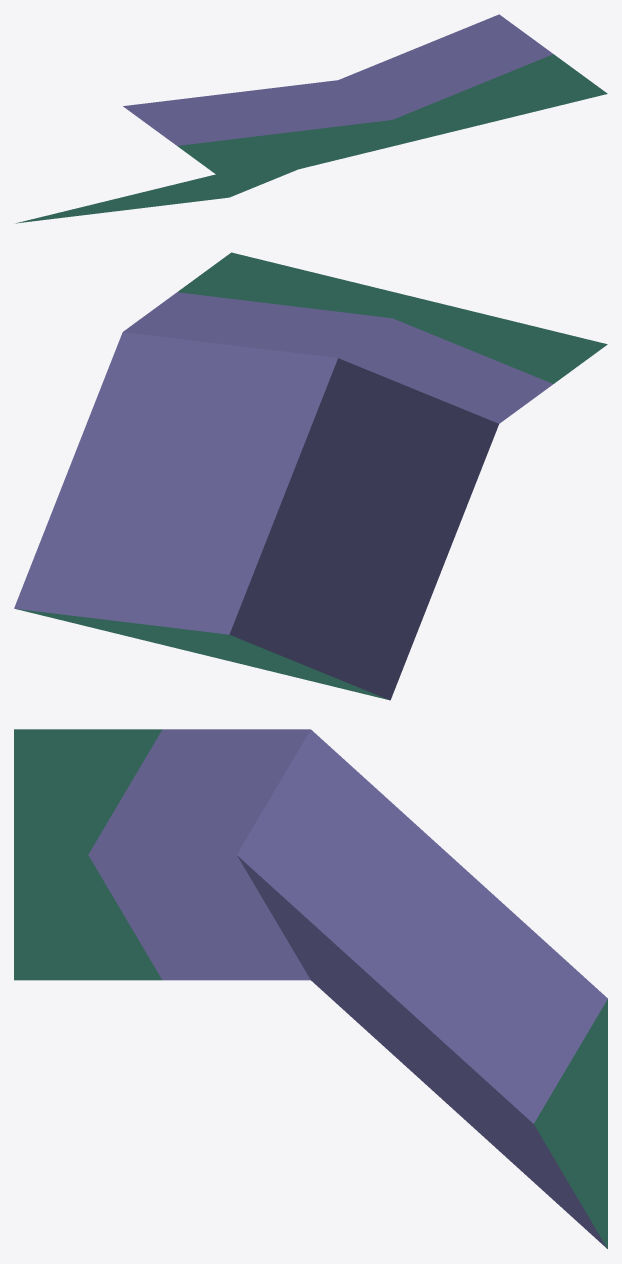
File: cliff-1.glb
The picture shows the model from 3 angles, top to bottom: view 1: azimuth 30°, elevation 25°; view 2: azimuth 150°, elevation 25°; view 3: azimuth 270°, elevation 25°; orthographic projection. The views are drawn at different scales.
Visible parts, largest first — view 1: terrain_sideCliff; view 2: terrain_sideCliff; view 3: terrain_sideCliff.
Boxes of the visible parts, x1,y1,x2,y2 form: terrain_sideCliff: (16,14,607,223); terrain_sideCliff: (14,252,607,700); terrain_sideCliff: (14,729,607,1248).
Bounding box in the file's own units: 1 × 0.5 × 1.
